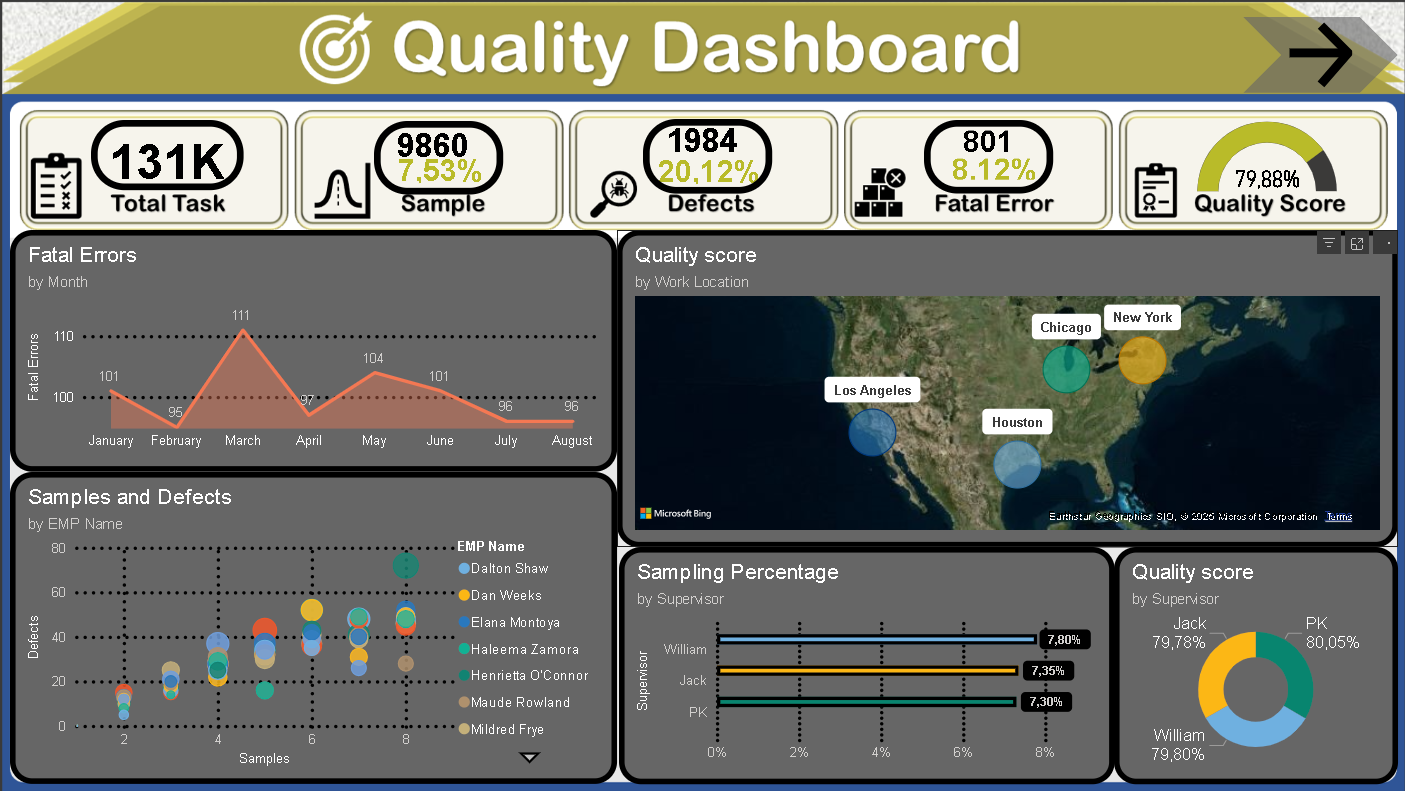

The dashboard page shown, as its layout file describes it:
{"tool":"powerbi","page":{"name":"Quality Dashboard","canvas":[1280,720],"ordinal":0},"visuals":[{"type":"image","box":[0,0,1280.2,720],"z":0},{"type":"card","fields":{"Values":["Quality data.Sampling%"]},"box":[358.1,142.3,92.2,32.2],"z":1000},{"type":"card","fields":{"Values":["Sum(Quality data.Total Task)"]},"box":[95,121.7,128.3,49.4],"z":2000},{"type":"card","fields":{"Values":["Sum(Quality data.Samples)"]},"box":[358.7,118.9,77.3,32],"z":3000},{"type":"card","fields":{"Values":["Sum(Quality data.Defects)"]},"box":[598.3,112.2,83.3,36.7],"z":4000},{"type":"card","fields":{"Values":["Sum(Quality data.Fatel Errors)"]},"box":[866.3,116.8,60.5,30],"z":5000},{"type":"card","fields":{"Values":["Quality data.Fatal Errors%"]},"box":[856.3,141.6,90.5,29.5],"z":6000},{"type":"card","fields":{"Values":["Quality data.Defects%"]},"box":[593.9,142.8,102.8,31.7],"z":7000},{"type":"scatterChart","title":"Samples and Defects ","fields":{"Y":["Sum(Quality data.Defects)"],"Series":["Emp Master.EMP Name"],"X":["Quality data.Samples"],"Size":["Sum(Quality data.Fatel Errors)"]},"box":[18.2,428.2,544.5,280],"z":8000},{"type":"areaChart","title":" Fatal Errors","fields":{"Y":["Sum(Quality data.Fatel Errors)"],"Category":["Quality data.Date.Variation.Date Hierarchy.Month"]},"box":[18,211,544.9,217.3],"z":9000},{"type":"donutChart","fields":{"Y":["Quality data.Quality score"],"Category":["Emp Master.Supervisor"]},"box":[1009.1,495.5,254.5,212.7],"z":10000},{"type":"map","title":"Quality score","fields":{"Category":["Emp Master.Work Location"],"Size":["Quality data.Quality score"],"Series":["Emp Master.Work Location"]},"box":[562.9,211,701.1,284.6],"z":11000},{"type":"clusteredBarChart","title":"Sampling Percentage","fields":{"Category":["Emp Master.Supervisor"],"Series":["Emp Master.Supervisor"],"Y":["Quality data.Sampling%"]},"box":[564.5,495.5,444.5,212.7],"z":12000},{"type":"gauge","fields":{"Y":["Quality data.Quality score"]},"box":[1073,108.7,147.4,72.6],"z":13000},{"type":"textbox","box":[344.4,112.8,115.6,65.6],"z":14000},{"type":"textbox","box":[90.9,111.8,137.3,62.7],"z":15000},{"type":"textbox","box":[585.8,111.6,116.3,66.8],"z":16000},{"type":"textbox","box":[838.4,112.6,116.3,65.8],"z":17000},{"type":"actionButton","box":[1124.9,19.8,139.2,68.2],"z":18000}]}

Visuals, with their boxes in screenshot pixels (x1, y1, x2, y2), scaled from the page's 1280x720 canvas onto the 1405x791 screenshot:
image: x1=0 y1=0 x2=1404 y2=790
card - Quality data.Sampling%: x1=393 y1=156 x2=494 y2=192
card - Sum(Quality data.Total Task): x1=104 y1=134 x2=245 y2=188
card - Sum(Quality data.Samples): x1=394 y1=131 x2=479 y2=166
card - Sum(Quality data.Defects): x1=657 y1=123 x2=748 y2=164
card - Sum(Quality data.Fatel Errors): x1=951 y1=128 x2=1017 y2=161
card - Quality data.Fatal Errors%: x1=940 y1=156 x2=1039 y2=188
card - Quality data.Defects%: x1=652 y1=157 x2=765 y2=192
"Samples and Defects " scatterChart: x1=20 y1=470 x2=618 y2=778
" Fatal Errors" areaChart: x1=20 y1=232 x2=618 y2=471
donutChart - Quality data.Quality score x Emp Master.Supervisor: x1=1108 y1=544 x2=1387 y2=778
"Quality score" map: x1=618 y1=232 x2=1387 y2=544
"Sampling Percentage" clusteredBarChart: x1=620 y1=544 x2=1108 y2=778
gauge - Quality data.Quality score: x1=1178 y1=119 x2=1340 y2=199
textbox: x1=378 y1=124 x2=505 y2=196
textbox: x1=100 y1=123 x2=250 y2=192
textbox: x1=643 y1=123 x2=771 y2=196
textbox: x1=920 y1=124 x2=1048 y2=196
actionButton: x1=1235 y1=22 x2=1388 y2=97
